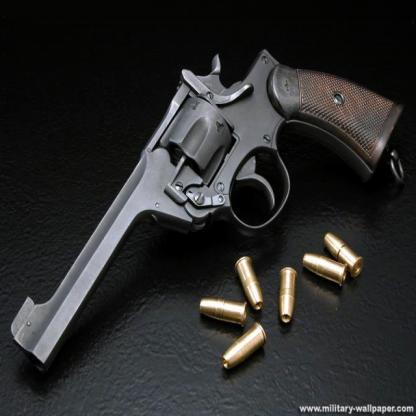weapon: (11, 47, 416, 393)
